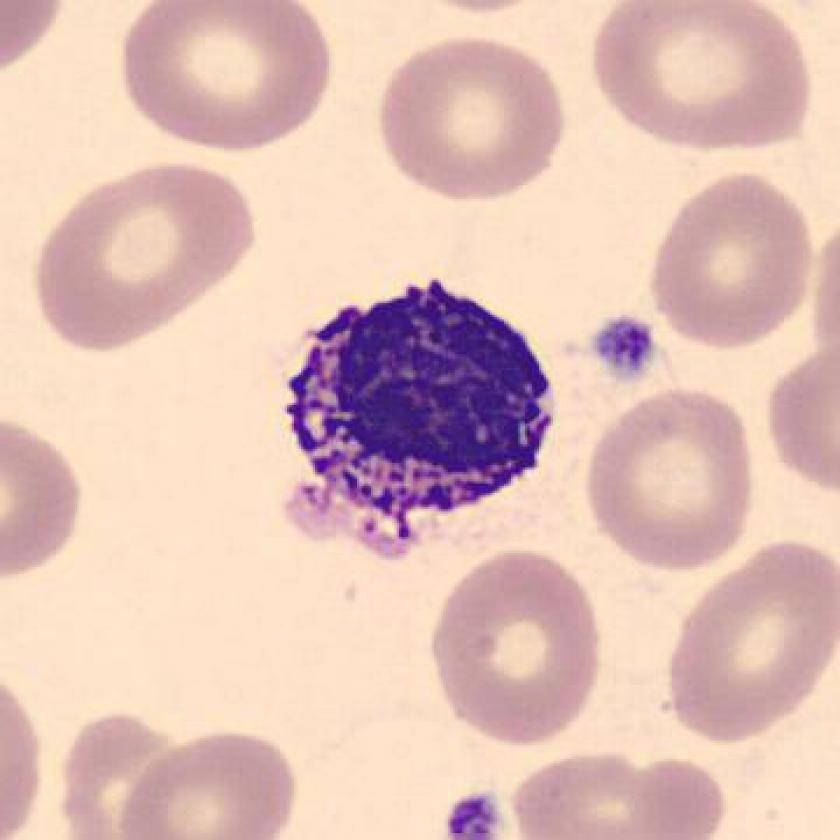basophil: (272, 267, 575, 550)
